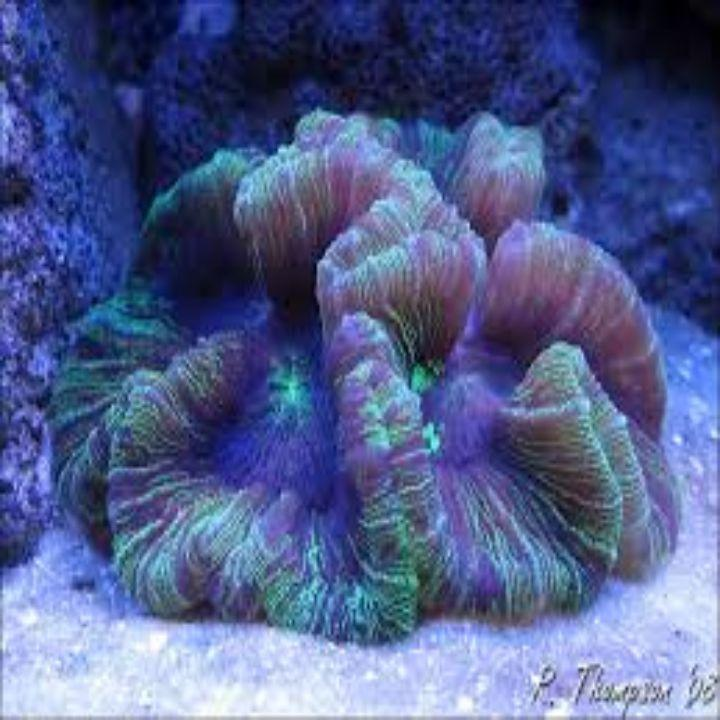Healthy Coral: (73, 114, 685, 639)
